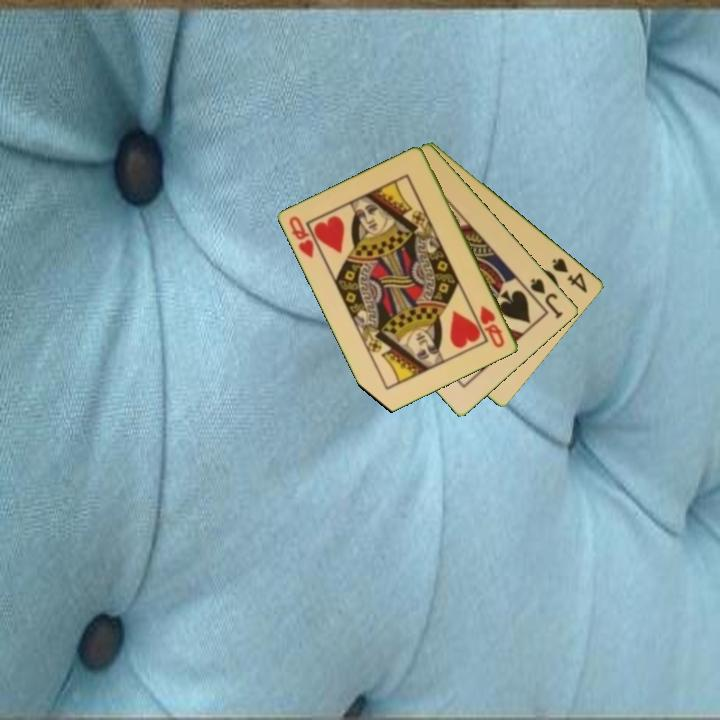4s: (548, 254, 591, 296)
Js: (527, 274, 566, 322)
Qh: (286, 213, 325, 261), (477, 302, 508, 351)
